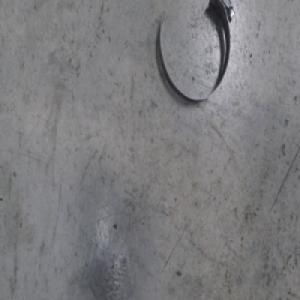AdjustableClamp: (159, 0, 237, 103)
